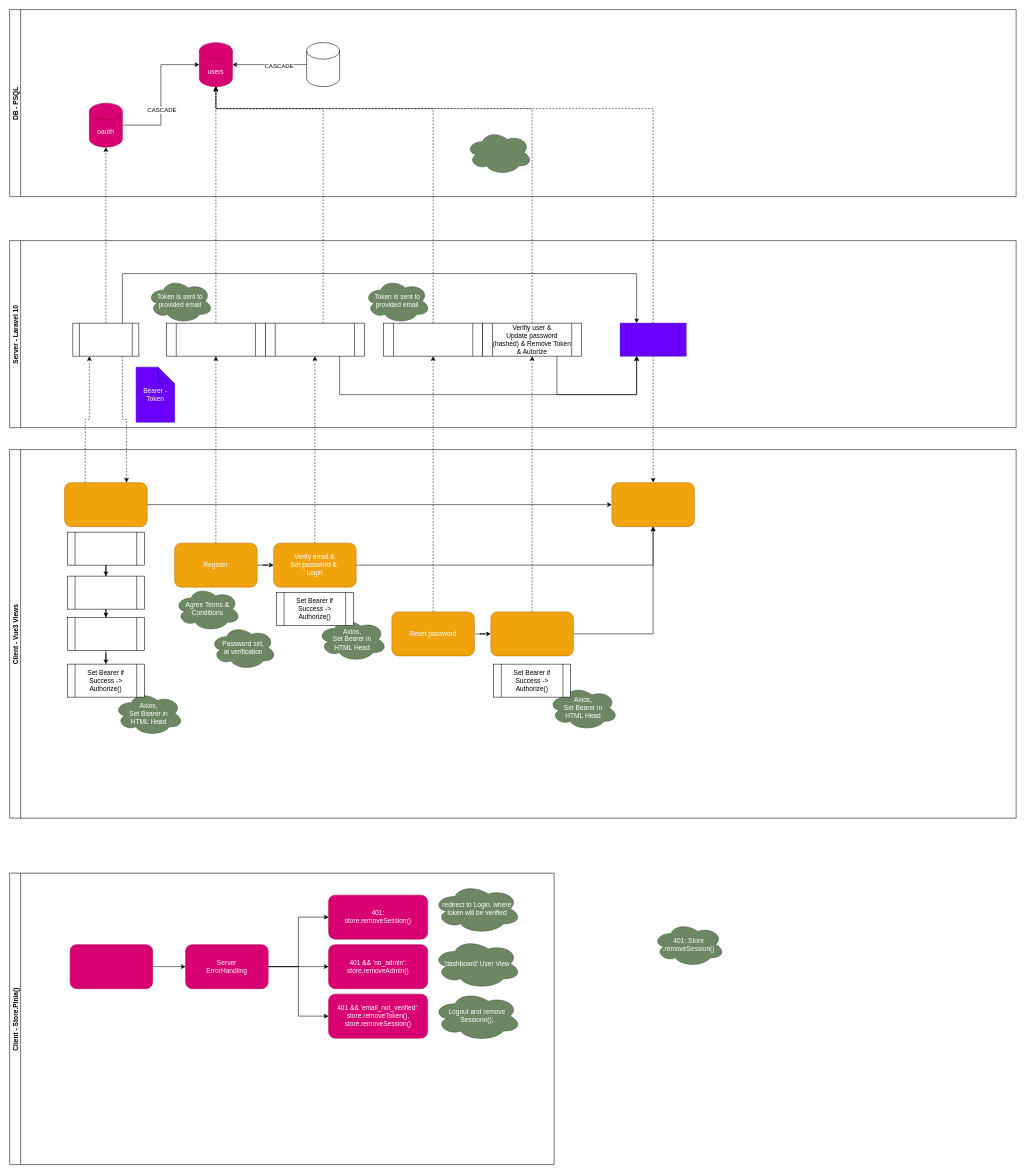
Some shapes in this 1026 by 1174 pixel diagram are drawn without their labels. The shapes that lost their labels are listed below. From the top down, each one's centre as x and y in pixels, then its label:
At point 323,64: "admins".
At point 499,152: "Remove Vereification Token".
At point 105,339: "Login".
At point 215,339: "Create Account & set verification-token & send verification email".
At point 314,339: "Verifiy User & Set password (hashed) & Remove Token Authorize".
At point 433,339: "Set verification-token & send verification email".
At point 653,339: "Authorize (Laravel Passport)".
At point 105,504: "Login + Authorization (if Bearer is set)".
At point 652,504: "Dashboard".
At point 105,548: "Mounted(): Check if Bearer exists -> Autorize()".
At point 105,592: "Remove Bearer if Authorization is not valid".
At point 105,633: "Login, if Bearer not existing".
At point 531,633: "Verify pw_reset & Set password & Login".
At point 111,966: "ResponseHandling".
